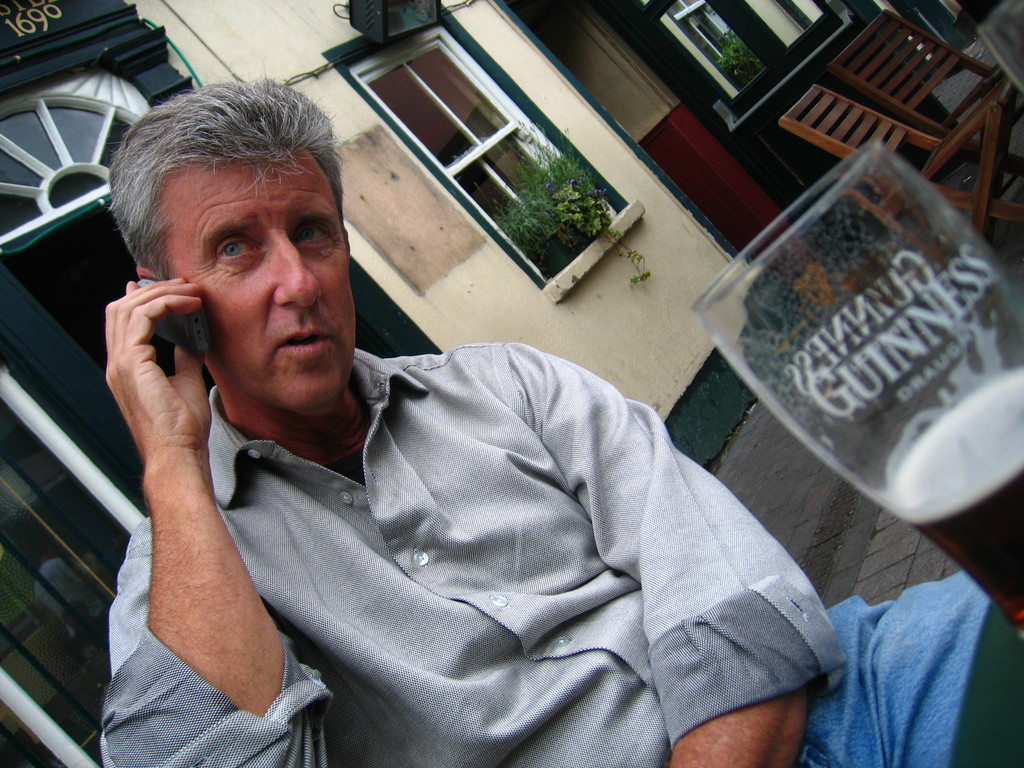Human_hand: (97, 248, 214, 540)
